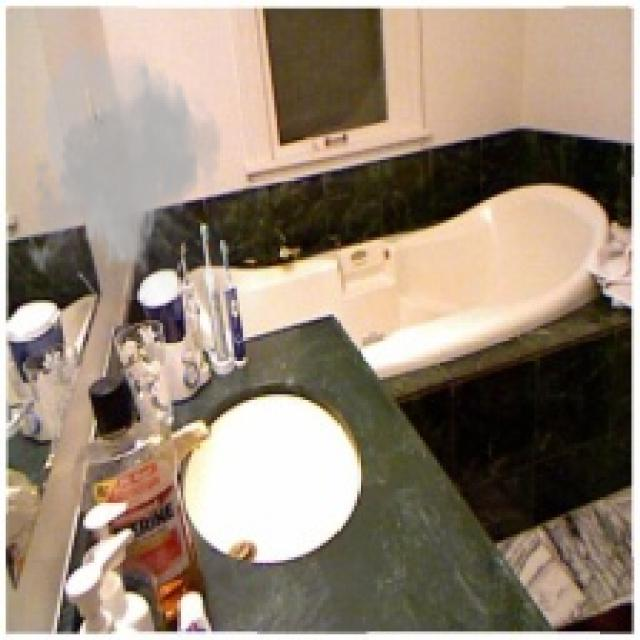smoke: (20, 37, 229, 300)
